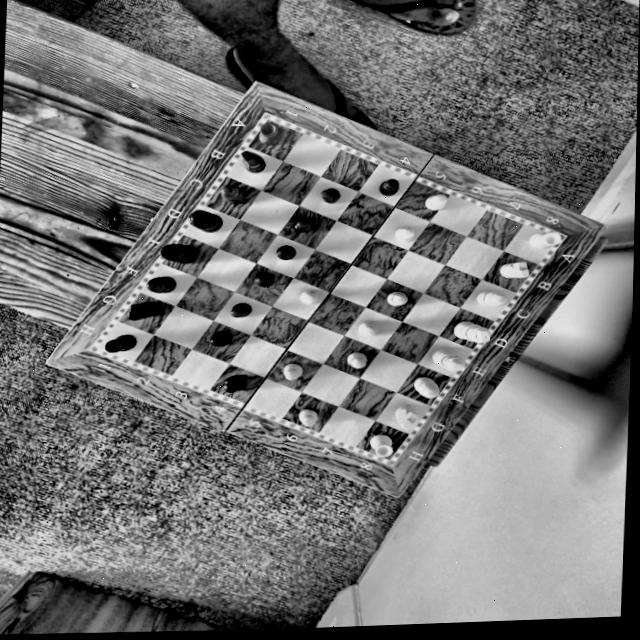black-bishop: (215, 178, 249, 208), (141, 273, 179, 296)
black-king: (157, 237, 200, 267)
black-knight: (122, 298, 164, 323), (233, 149, 269, 174)
black-pawn: (217, 372, 248, 398), (205, 327, 238, 350), (374, 172, 402, 197), (317, 184, 344, 207), (227, 298, 254, 321), (273, 240, 298, 262), (292, 214, 316, 234), (250, 270, 275, 288)
black-queen: (185, 204, 225, 236)
black-rook: (101, 330, 138, 357), (250, 120, 284, 147)
white-bishop: (407, 374, 444, 401), (470, 285, 507, 310)
white-king: (448, 318, 492, 346)
white-knight: (492, 258, 533, 281), (391, 402, 420, 431)
white-pawn: (417, 189, 448, 215), (295, 403, 320, 428), (278, 359, 305, 382), (343, 348, 368, 371), (383, 288, 409, 308), (391, 223, 417, 243), (354, 318, 379, 337)
white-queen: (425, 345, 468, 373)
white-rook: (524, 227, 562, 252), (367, 430, 396, 460)
